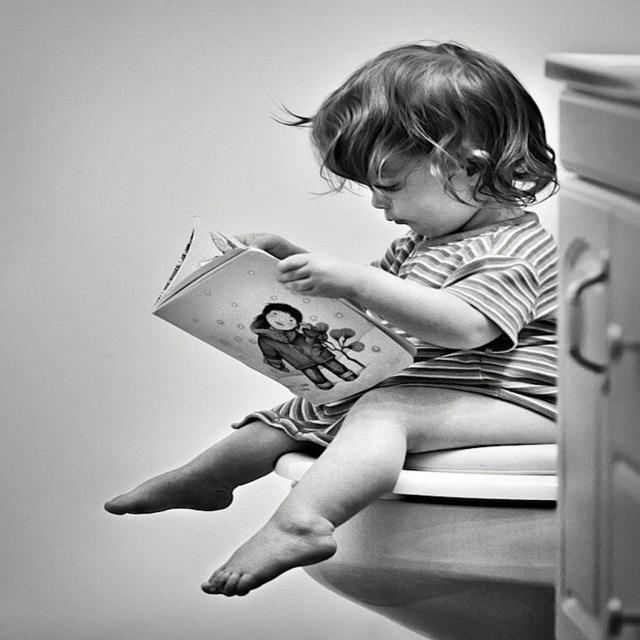nomask: (338, 127, 466, 236)
